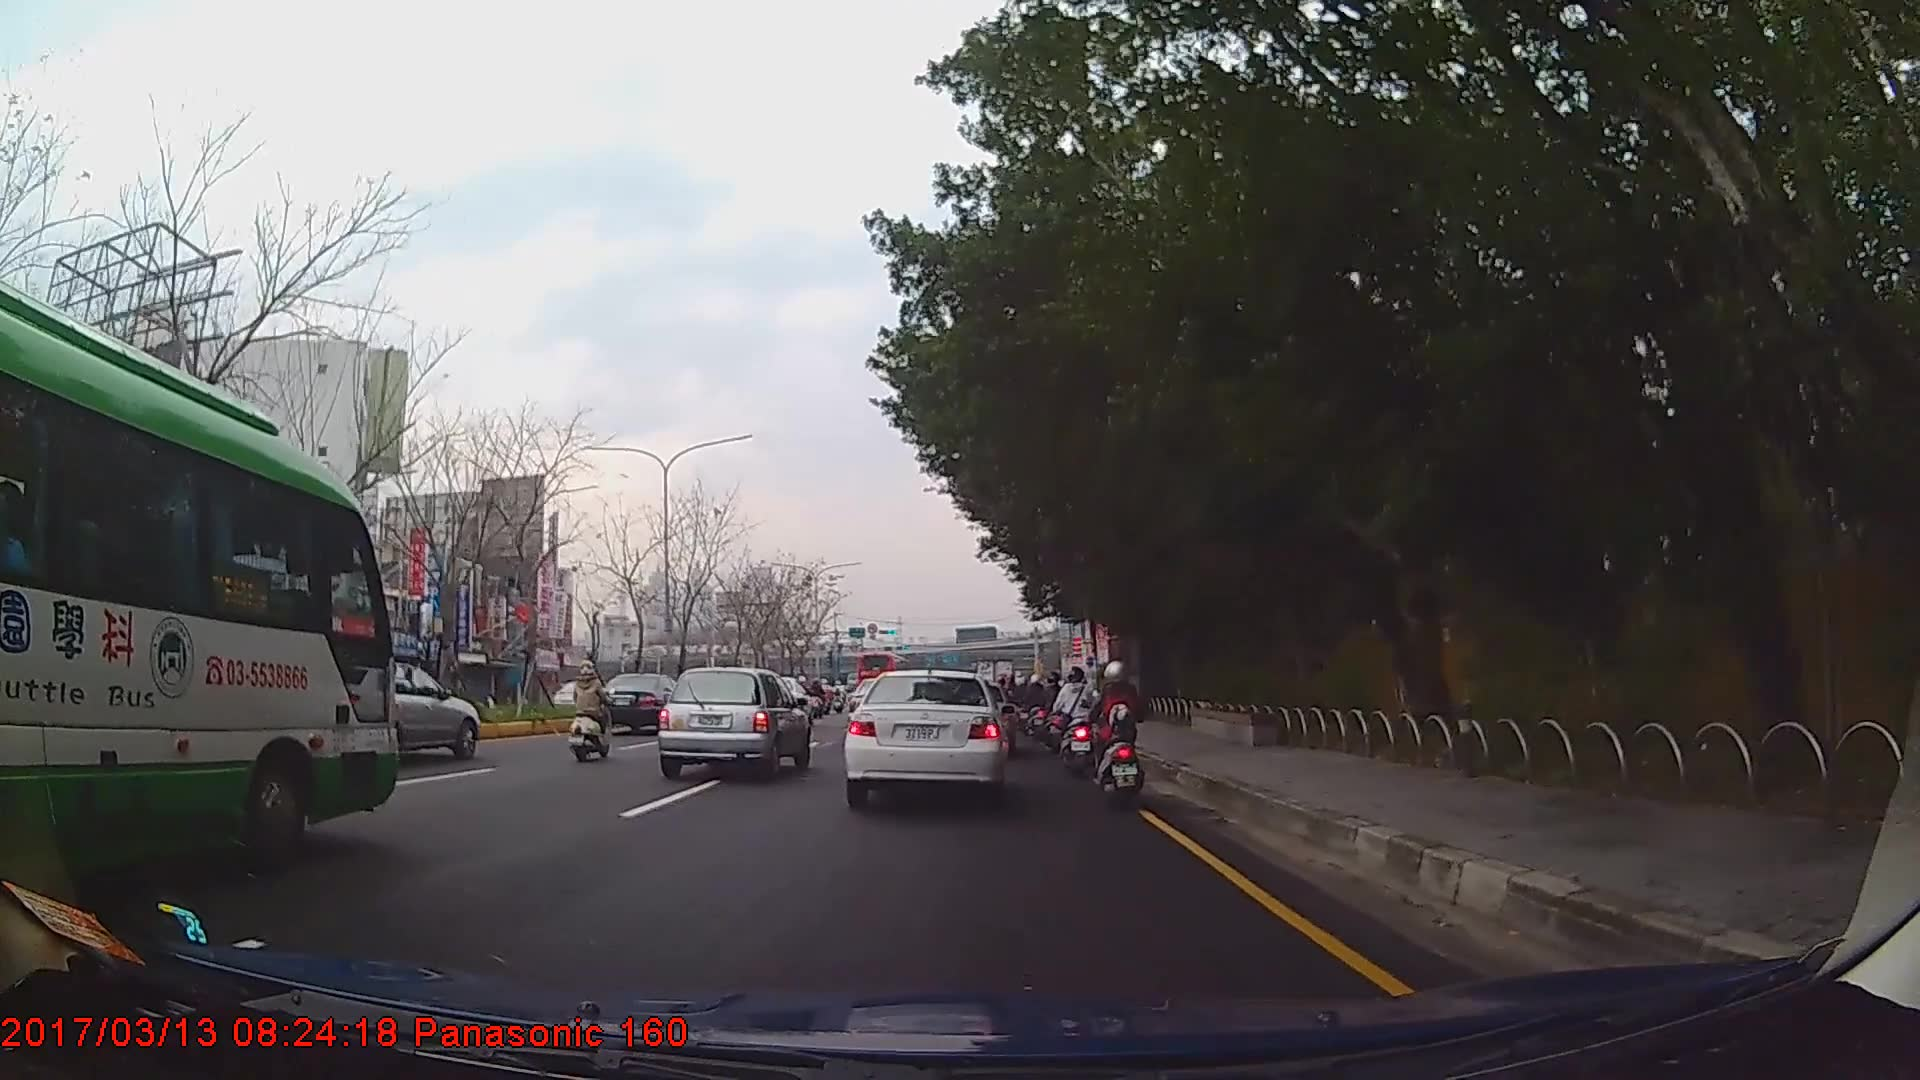rider: (1088, 656, 1151, 812), (1056, 668, 1101, 777), (571, 662, 614, 760), (1043, 669, 1067, 748)
vehicle: (0, 281, 401, 894), (839, 666, 1009, 807), (659, 663, 812, 779), (337, 660, 479, 760), (598, 670, 687, 732), (856, 648, 909, 697)
